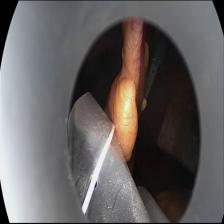Specimen Bag: (63, 90, 159, 224)
